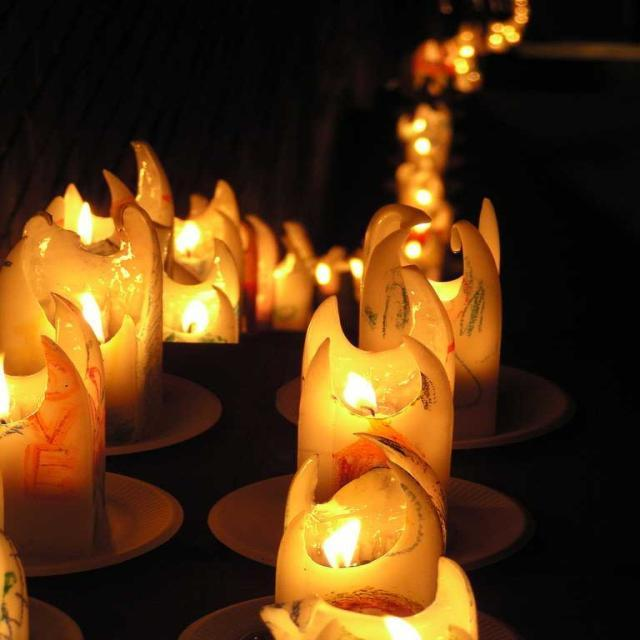Fire: (325, 518, 364, 564), (343, 372, 375, 406), (76, 288, 103, 328), (179, 303, 207, 336), (78, 201, 94, 238)
